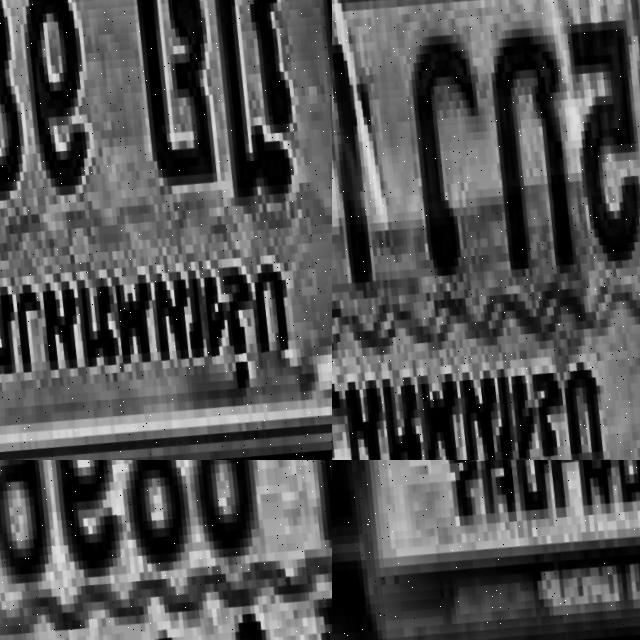license-plate: (0, 0, 332, 460), (332, 0, 640, 460), (0, 460, 332, 640), (332, 460, 640, 640)
